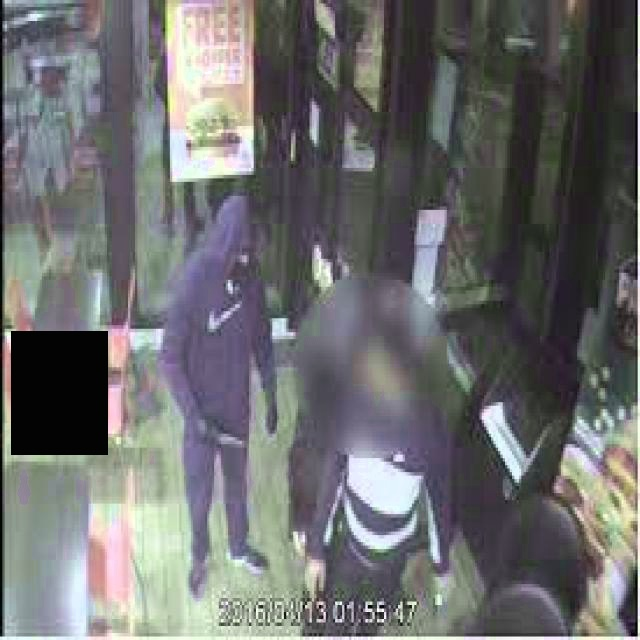gun: (193, 412, 251, 461)
